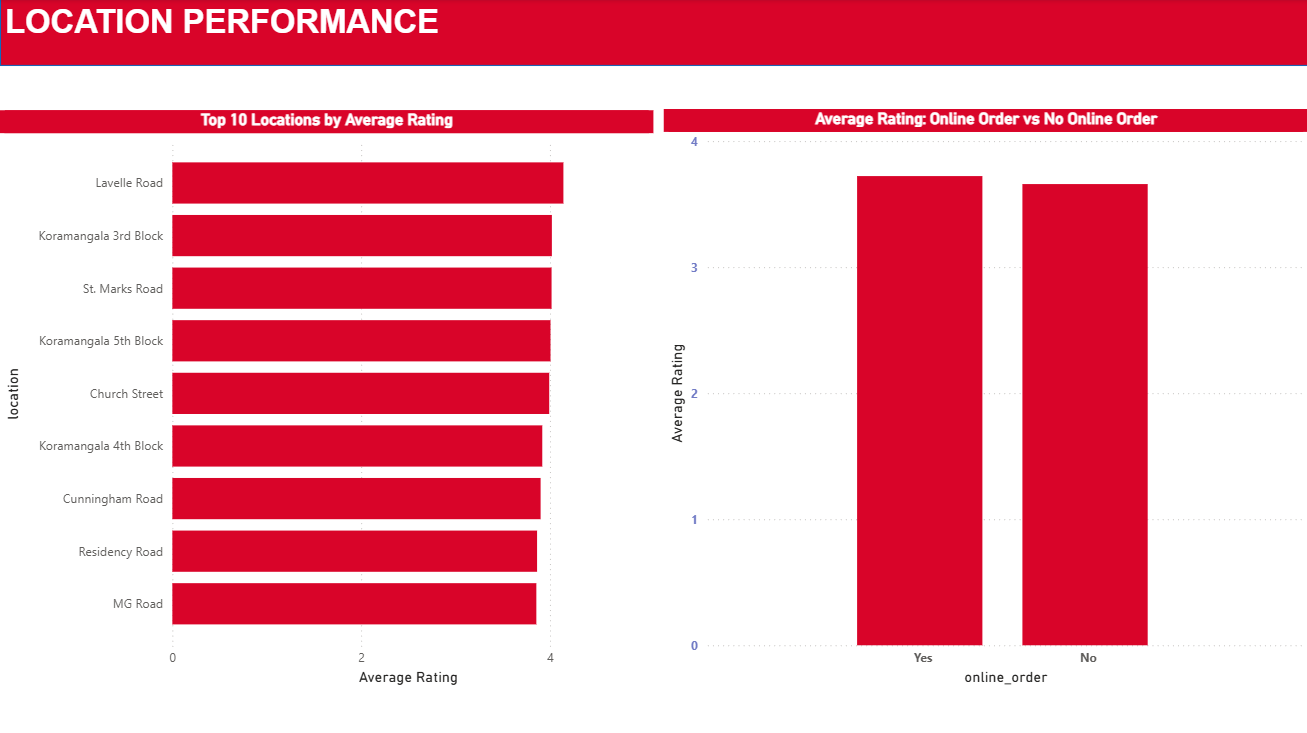

The dashboard page shown, as its layout file describes it:
{"tool":"powerbi","page":{"name":"Location Performance","canvas":[1280,720],"ordinal":1},"visuals":[{"type":"clusteredBarChart","title":"Top 10 Locations by Average Rating","fields":{"Category":["zomato_cleaned_final.location"],"Y":["zomato_cleaned_final.Average Rating"]},"box":[0,108.5,639.1,466.9],"z":0},{"type":"clusteredColumnChart","title":"Average Rating: Online Order vs No Online Order","fields":{"Y":["zomato_cleaned_final.Average Rating"],"Category":["zomato_cleaned_final.online_order"]},"box":[649,108,631,467],"z":1000},{"type":"shape","box":[0,0,1280,65.5],"z":2500},{"type":"textbox","box":[0,0,1280,65.5],"z":3500}]}

Visuals, with their boxes in screenshot pixels (x1, y1, x2, y2), scaled from the page's 1280x720 canvas onto the 1307x733 screenshot:
"Top 10 Locations by Average Rating" clusteredBarChart: 0 110 653 586
"Average Rating: Online Order vs No Online Order" clusteredColumnChart: 663 110 1306 585
shape: 0 0 1306 67
textbox: 0 0 1306 67
